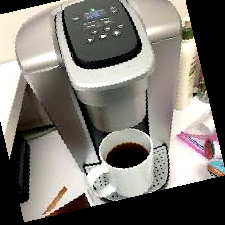10oz: (99, 34, 107, 40)
12oz: (113, 30, 121, 36)
4oz: (90, 28, 98, 34)
6oz: (104, 26, 112, 32)
8oz: (86, 37, 94, 43)
coffee_handle: (91, 69, 150, 97)
water_handle: (26, 62, 62, 78)
